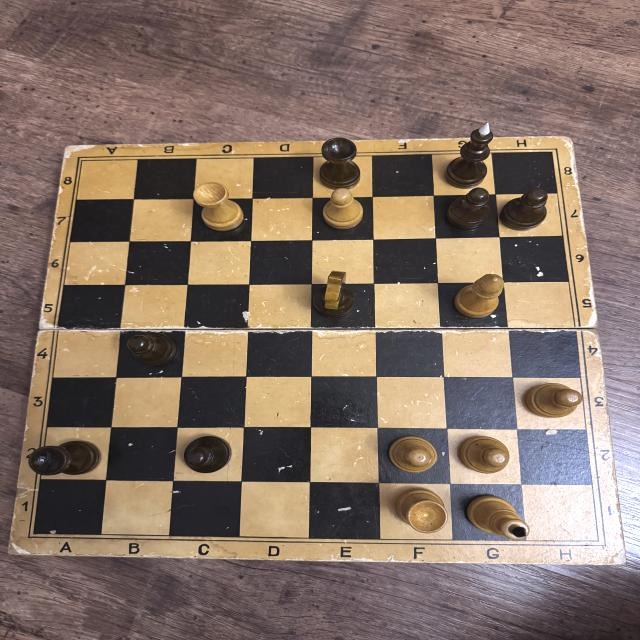black-king: (444, 124, 498, 189)
black-knight: (315, 270, 355, 318)
black-pawn: (444, 188, 497, 230), (499, 188, 552, 230), (124, 331, 180, 370), (181, 434, 232, 474)
black-rook: (314, 134, 366, 190), (27, 440, 101, 476)
white-bishop: (450, 273, 505, 319)
white-king: (464, 492, 530, 542)
white-pawn: (458, 434, 512, 475), (526, 382, 582, 419), (321, 188, 368, 230), (386, 437, 439, 473)
white-rook: (191, 182, 249, 233), (393, 484, 448, 535)
